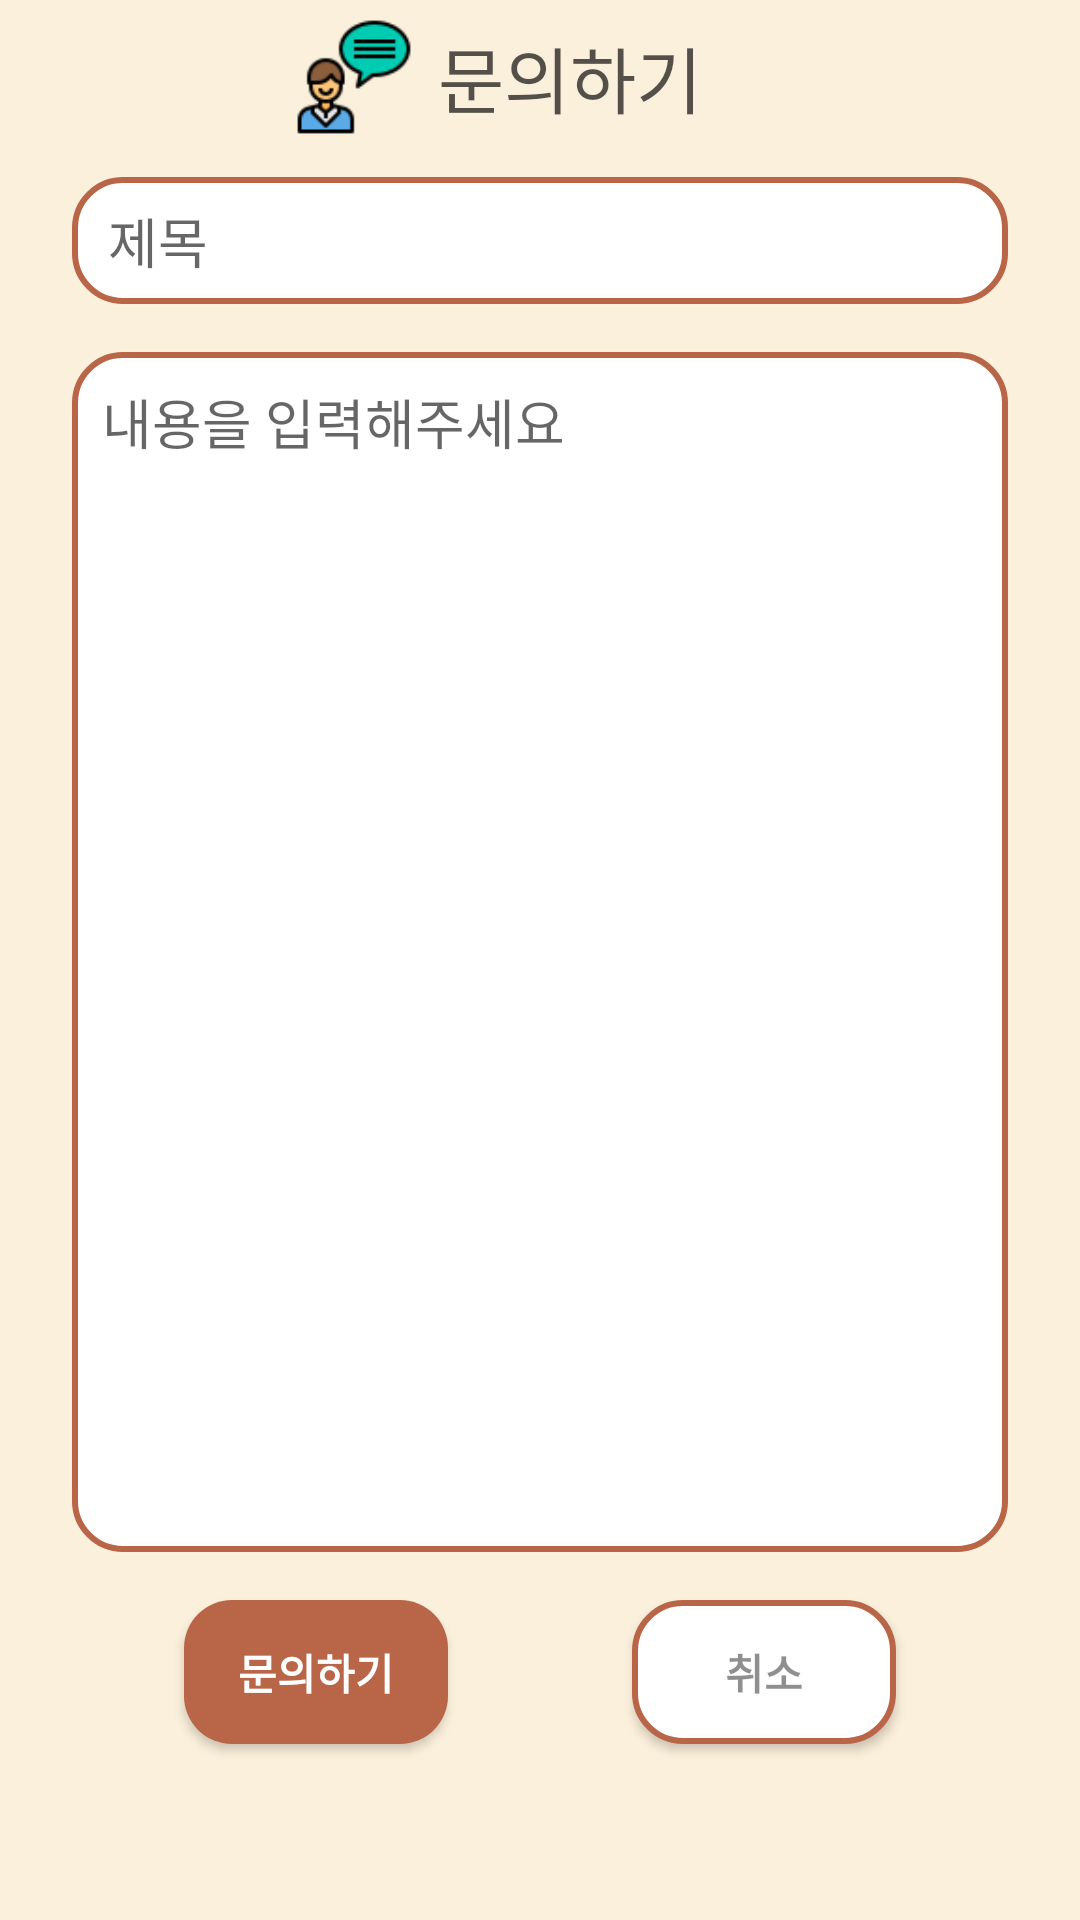

Icons on this 1080×1920 Android screen, each with the point to tap as point (x, y):
ask: point (354, 77)
